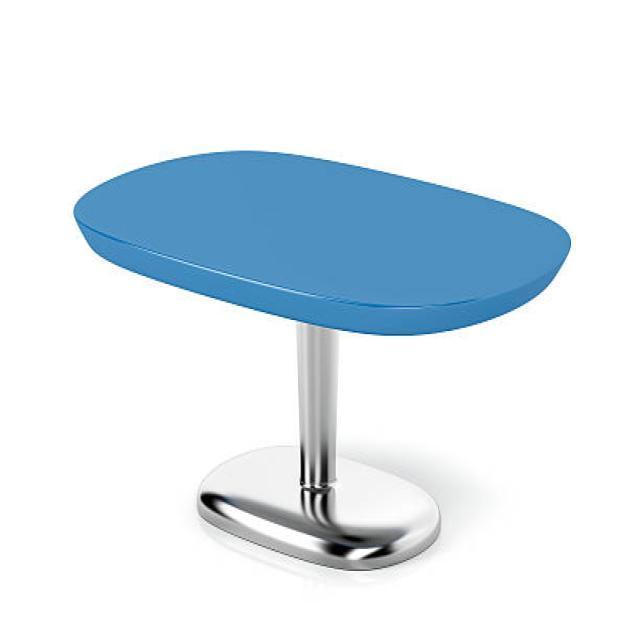table: (72, 145, 571, 572)
